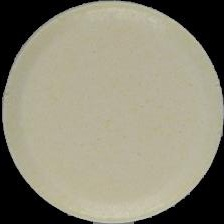54868-2134: (0, 0, 224, 224)
